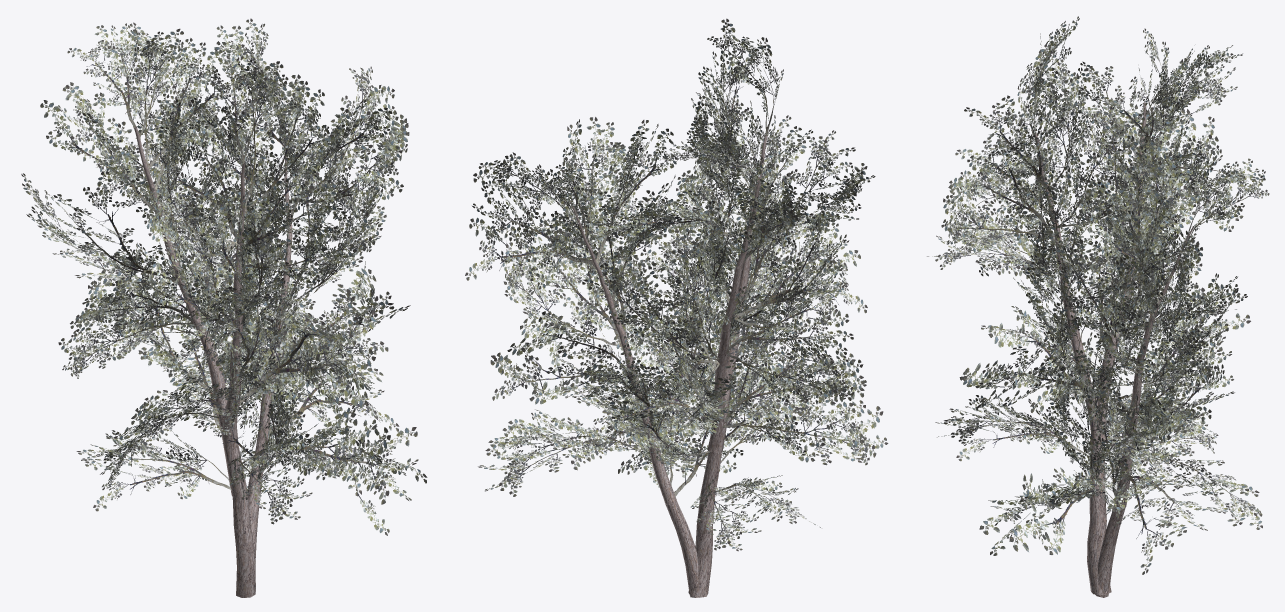
The model's file is Poplar_17m_standard-res-DESKTOP-2OCMI3Q.FBX.
The picture shows the model from 3 angles, left to right: view 1: azimuth 30°, elevation 25°; view 2: azimuth 150°, elevation 25°; view 3: azimuth 270°, elevation 25°; orthographic projection. The views are drawn at different scales.
Parts seen in each view (by area): view 1: VB_Poplar_17m_standard-res; view 2: VB_Poplar_17m_standard-res; view 3: VB_Poplar_17m_standard-res.
Boxes of the visible parts, <box> form: VB_Poplar_17m_standard-res: <box>21,18,427,597</box>; VB_Poplar_17m_standard-res: <box>465,18,888,597</box>; VB_Poplar_17m_standard-res: <box>927,16,1269,597</box>.
Bounding box in the file's own units: 12.07 × 17.61 × 9.82.
4 materials, 4 textured.
